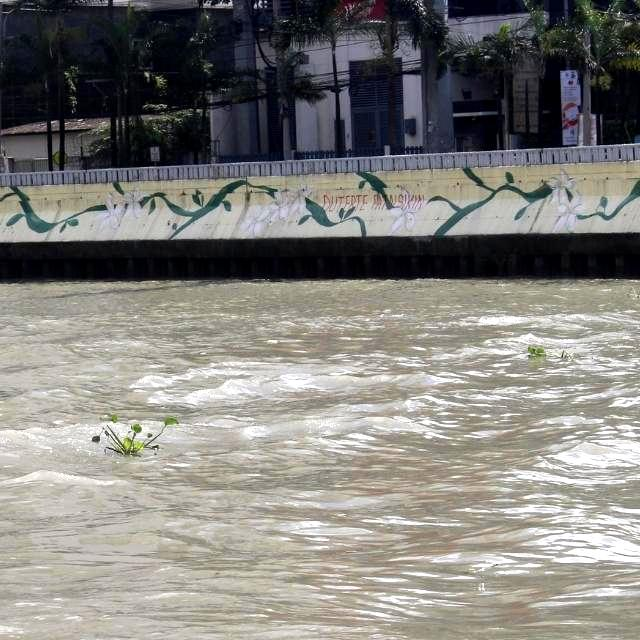water-hyacinth: (86, 412, 177, 462), (526, 344, 574, 361)
